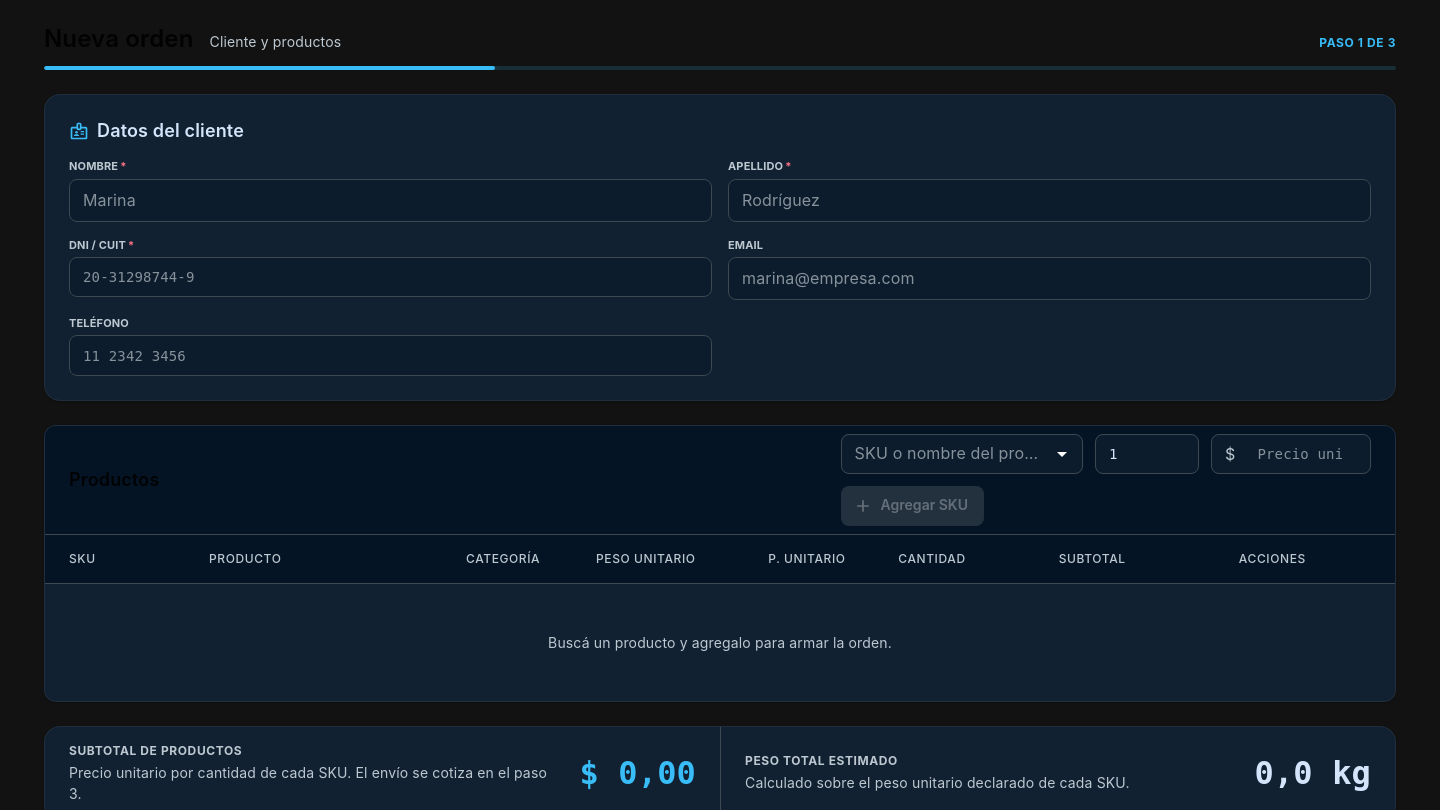
Test: NewOrderPage › removes a line from its row menu
The image size is (1440, 810).
Step 1. Type "PX-9021" into the dropdown named "Buscar por SKU o nombre" → (945, 454), box [847,440,1044,468]
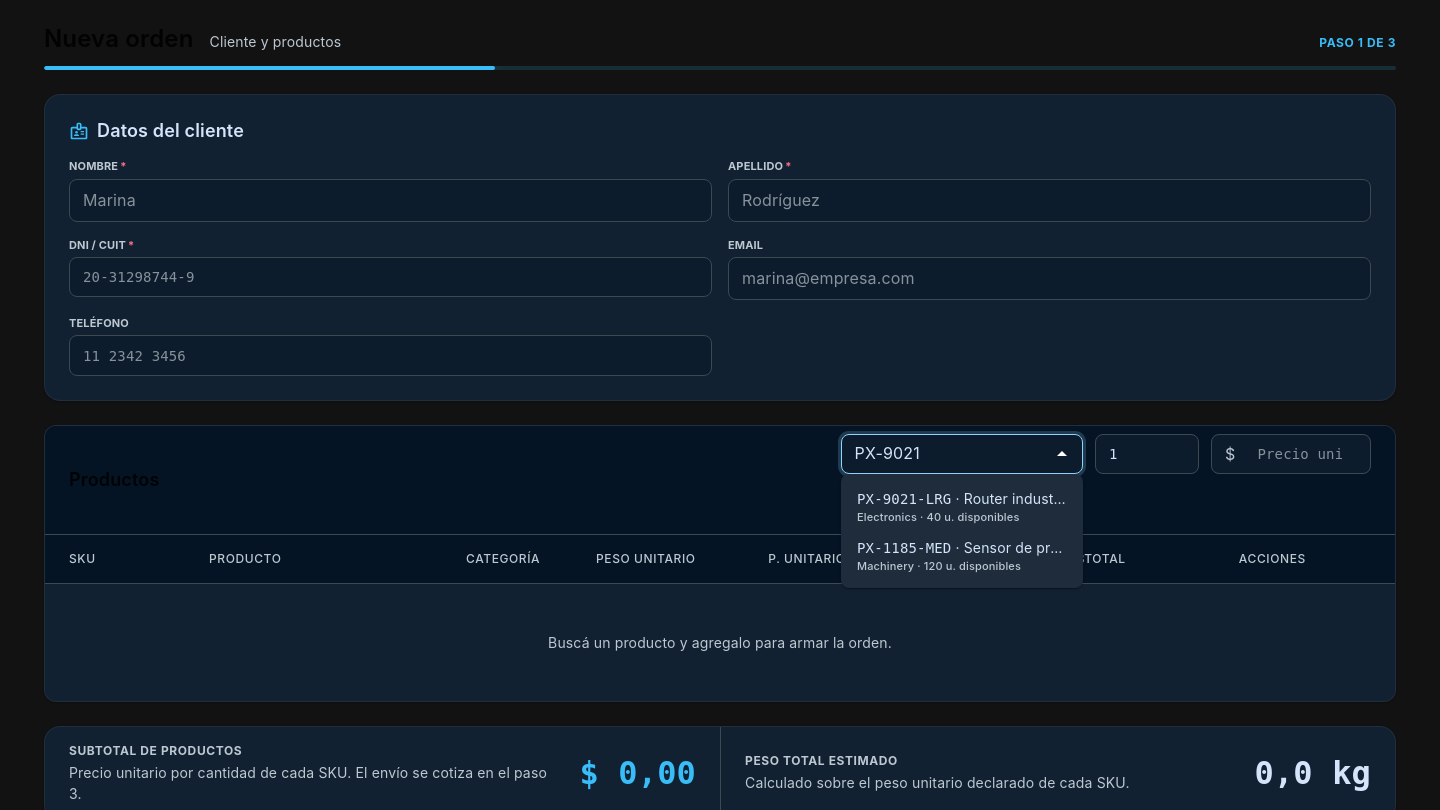
Step 2. Click the option "PX-9021" → click(962, 506), box [841,482,1083,531]
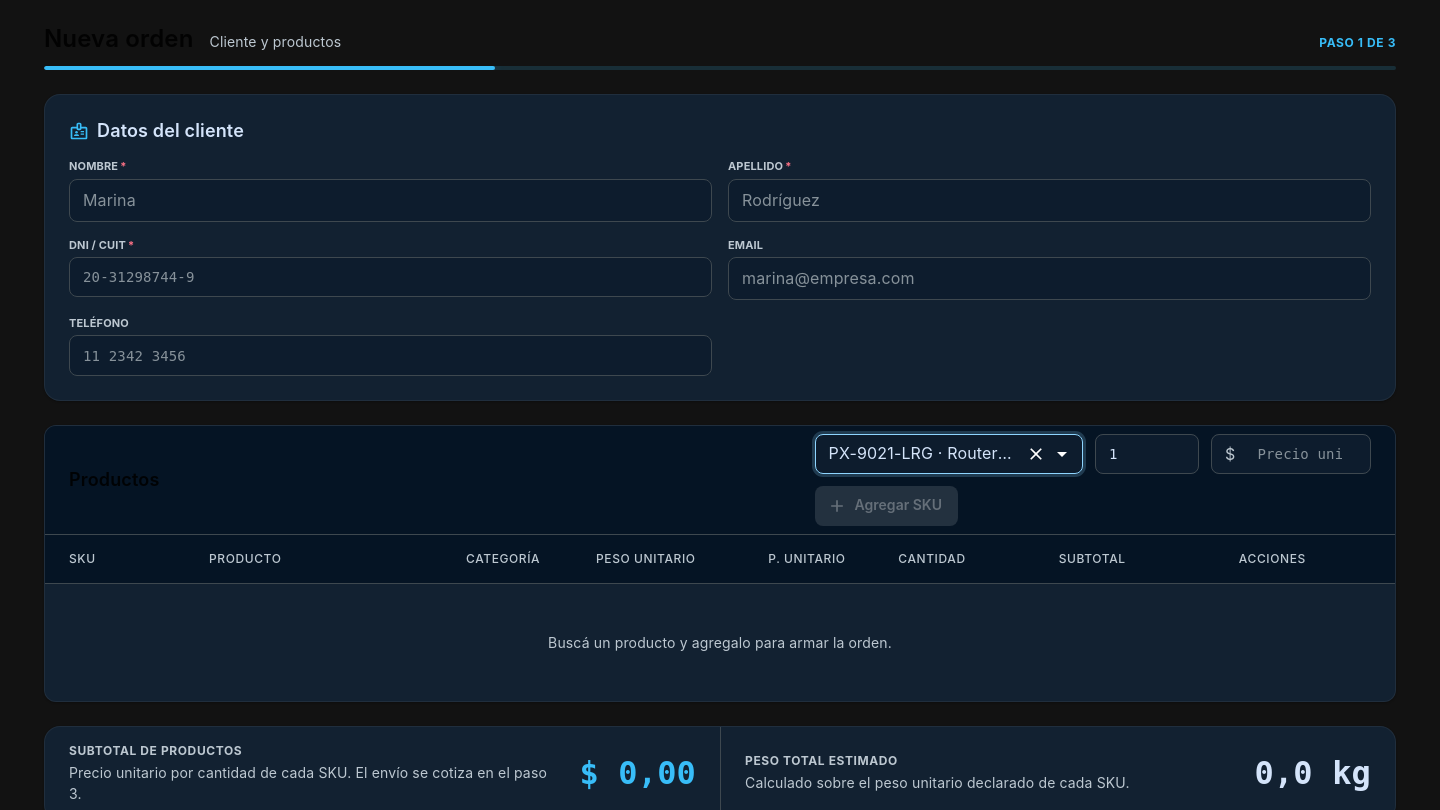
Step 3. Replace the text in the number field named "Cantidad" with "12" → (1147, 454), box [1095,434,1199,474]
Step 4. Type "120000" into the number field labelled "Precio unitario" → (1307, 454), box [1243,434,1371,474]
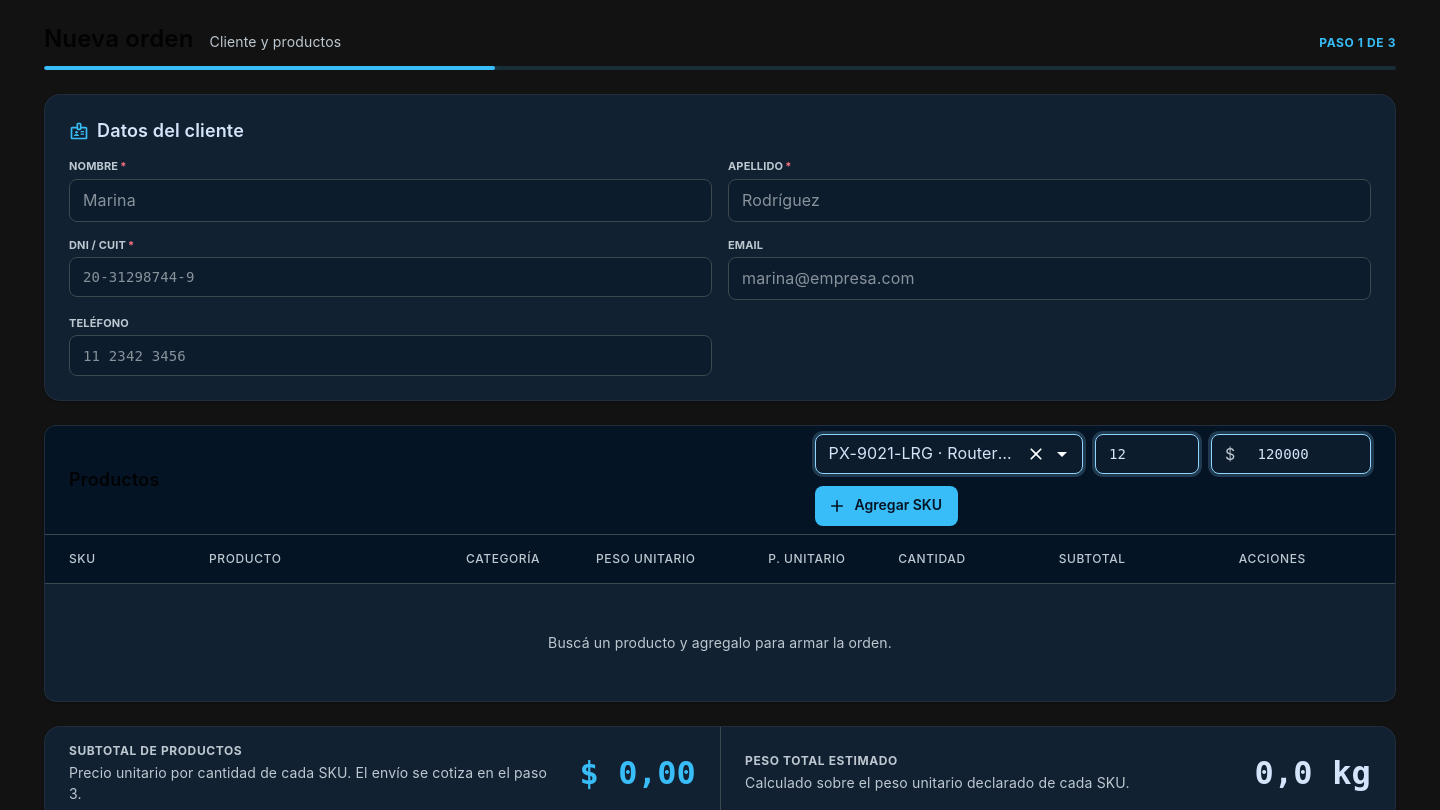
Step 5. Click the button "Agregar SKU" → click(886, 506), box [815,486,958,526]
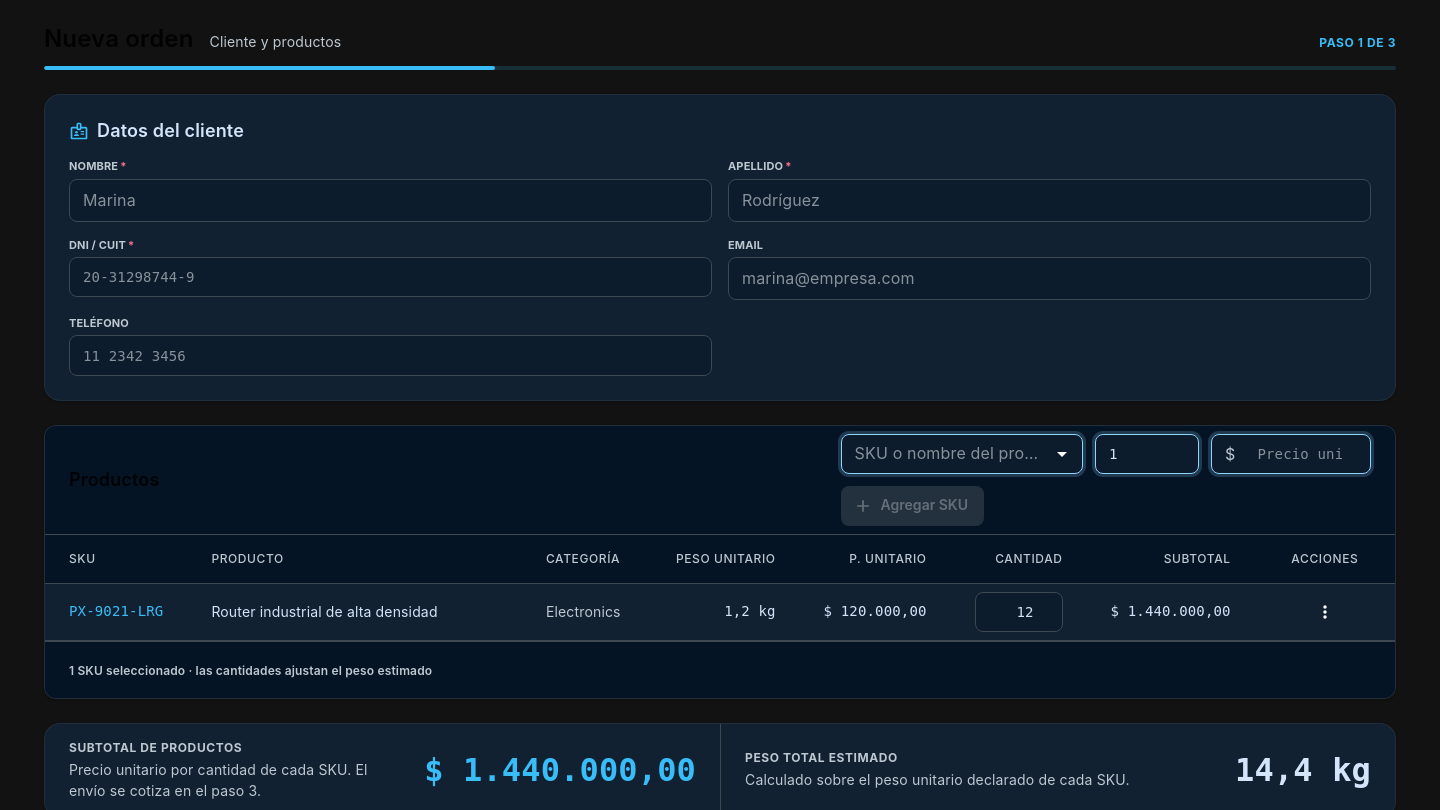
Step 6. Click the button named "Acciones de PX-9021-LRG" → click(1325, 612), box [1310,597,1340,627]
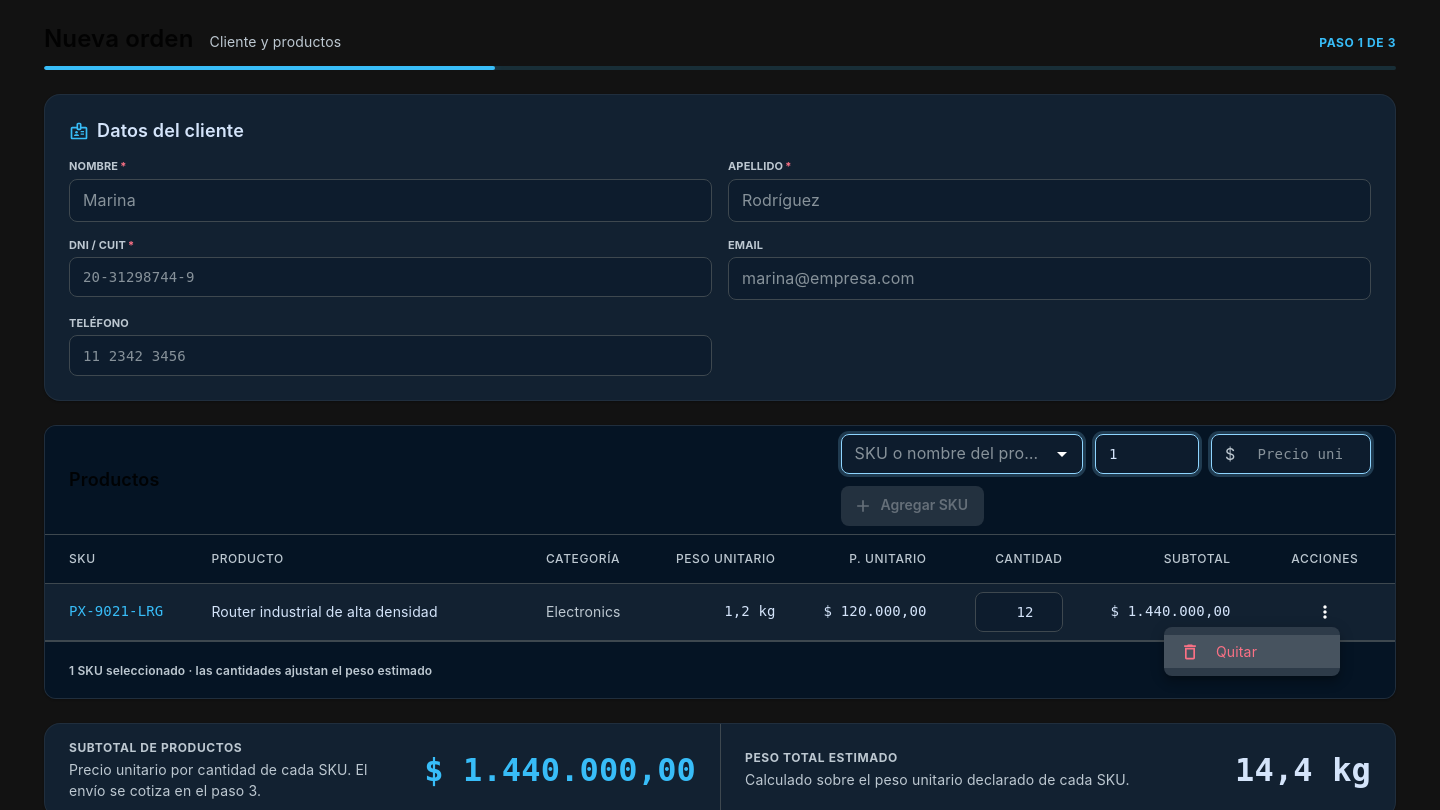
Step 7. Click the menu item "Quitar" → click(1252, 652), box [1164,635,1340,668]
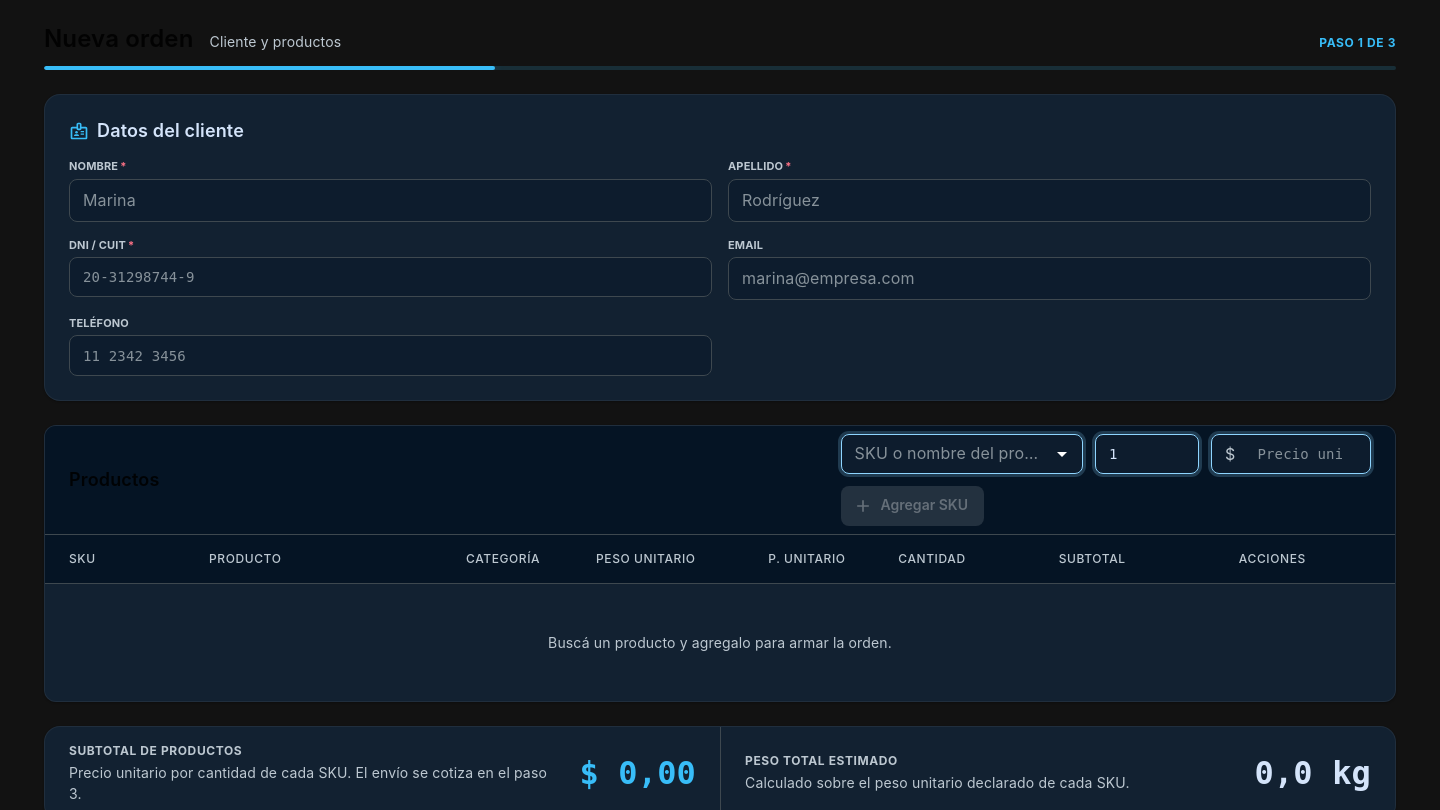
Expected: the text "PX-9021-LRG" is gone
